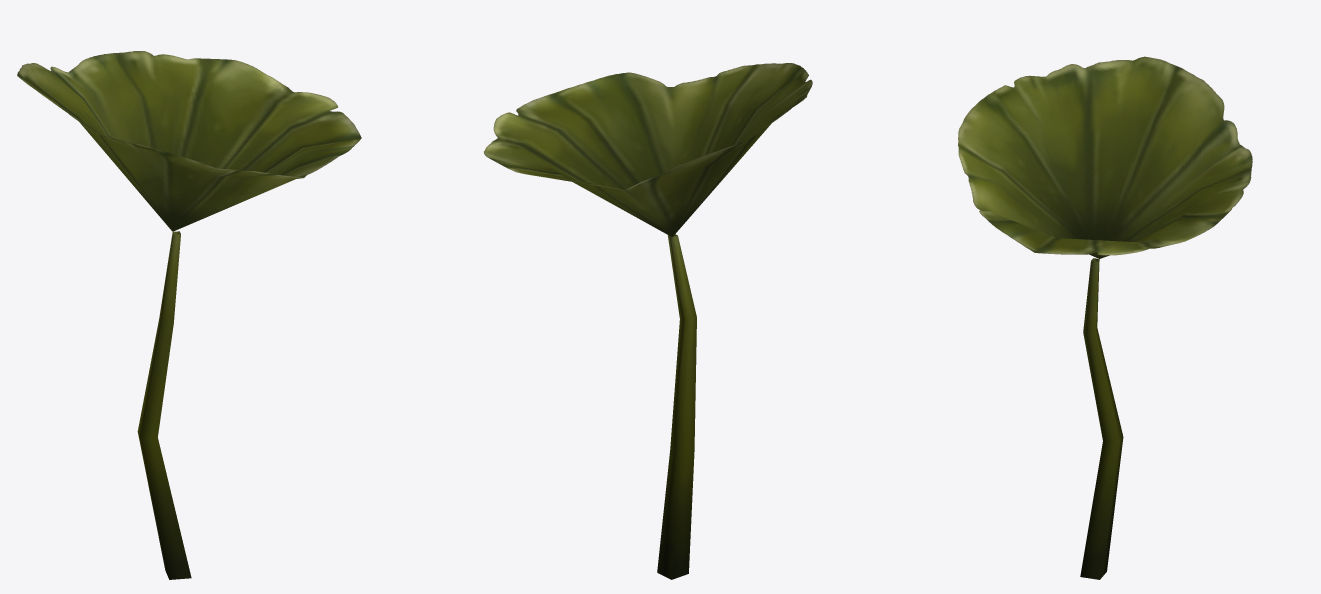
File: Wetlands_Plant_04.fbx
The picture shows the model from 3 angles, left to right: view 1: azimuth 30°, elevation 25°; view 2: azimuth 150°, elevation 25°; view 3: azimuth 270°, elevation 25°; orthographic projection. The views are drawn at different scales.
Visible parts, largest first — view 1: Wetlands_Plant_04; view 2: Wetlands_Plant_04; view 3: Wetlands_Plant_04.
Boxes of the visible parts, x1=… form: Wetlands_Plant_04: x1=17, y1=51, x2=361, y2=579; Wetlands_Plant_04: x1=484, y1=63, x2=812, y2=579; Wetlands_Plant_04: x1=958, y1=56, x2=1252, y2=579.
Bounding box in the file's own units: 2.26 × 3.07 × 2.33.
Materials: 1 (1 with a texture image).
